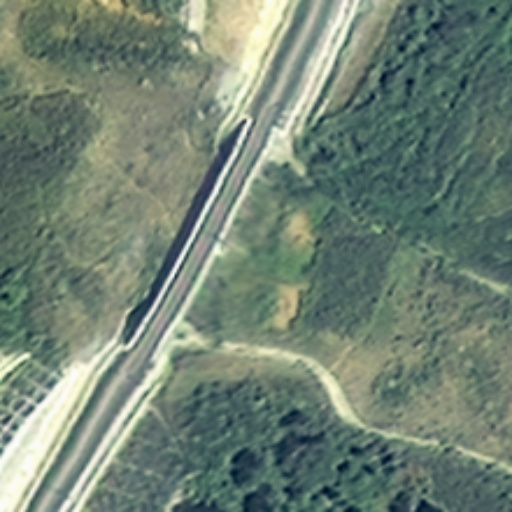landslide: (271, 204, 315, 334)
